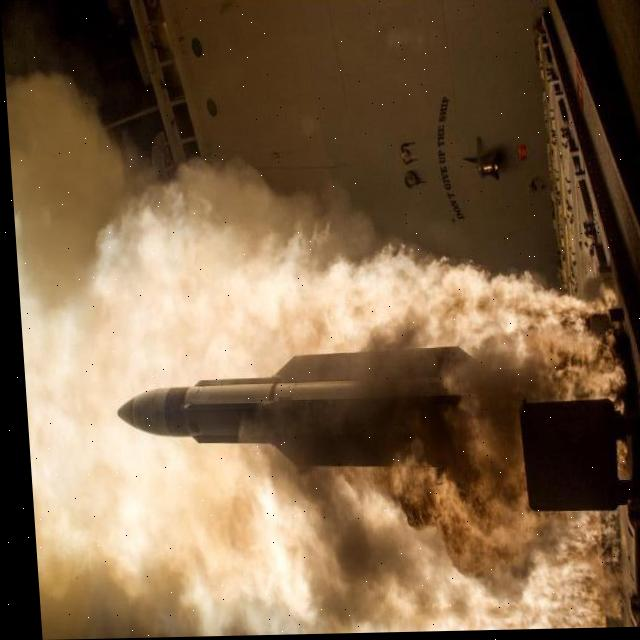missile: (106, 346, 483, 480)
